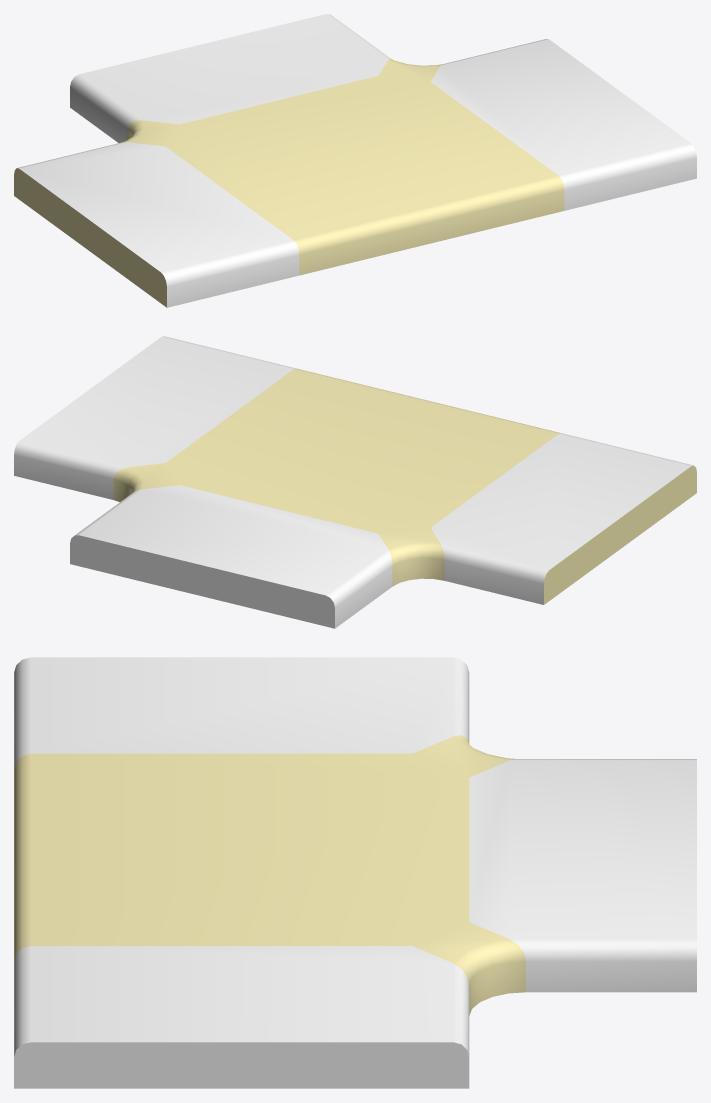
File: IntersectionSmall_yellow.fbx
3 views of the same model, one above another, from view 1: azimuth 30°, elevation 25°; view 2: azimuth 150°, elevation 25°; view 3: azimuth 270°, elevation 25° (orthographic). The views are drawn at different scales.
Visible parts, largest first — view 1: IntersectionSmall_yellow; view 2: IntersectionSmall_yellow; view 3: IntersectionSmall_yellow.
Part boxes in pixels (x1,y1,x2,y2): IntersectionSmall_yellow: (14,14,696,307); IntersectionSmall_yellow: (14,336,696,628); IntersectionSmall_yellow: (14,657,696,1088).
Size of the model in its own units: 600 by 33.61 by 450.
1 material, 1 textured.
